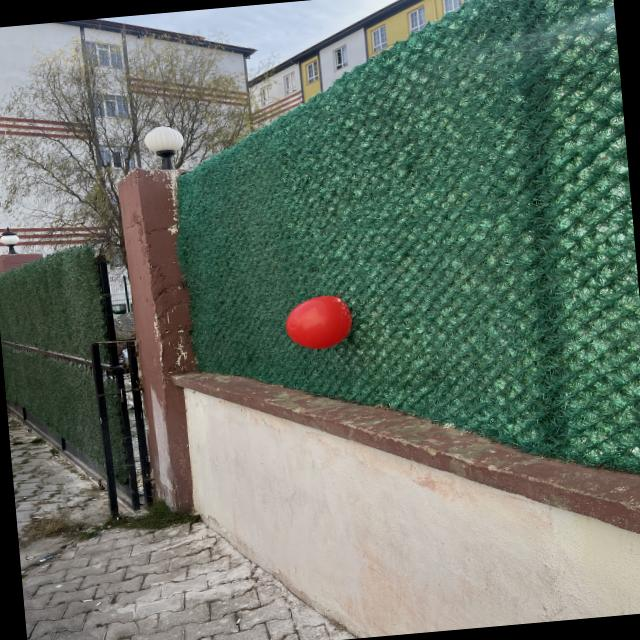balloon: (285, 295, 351, 348)
